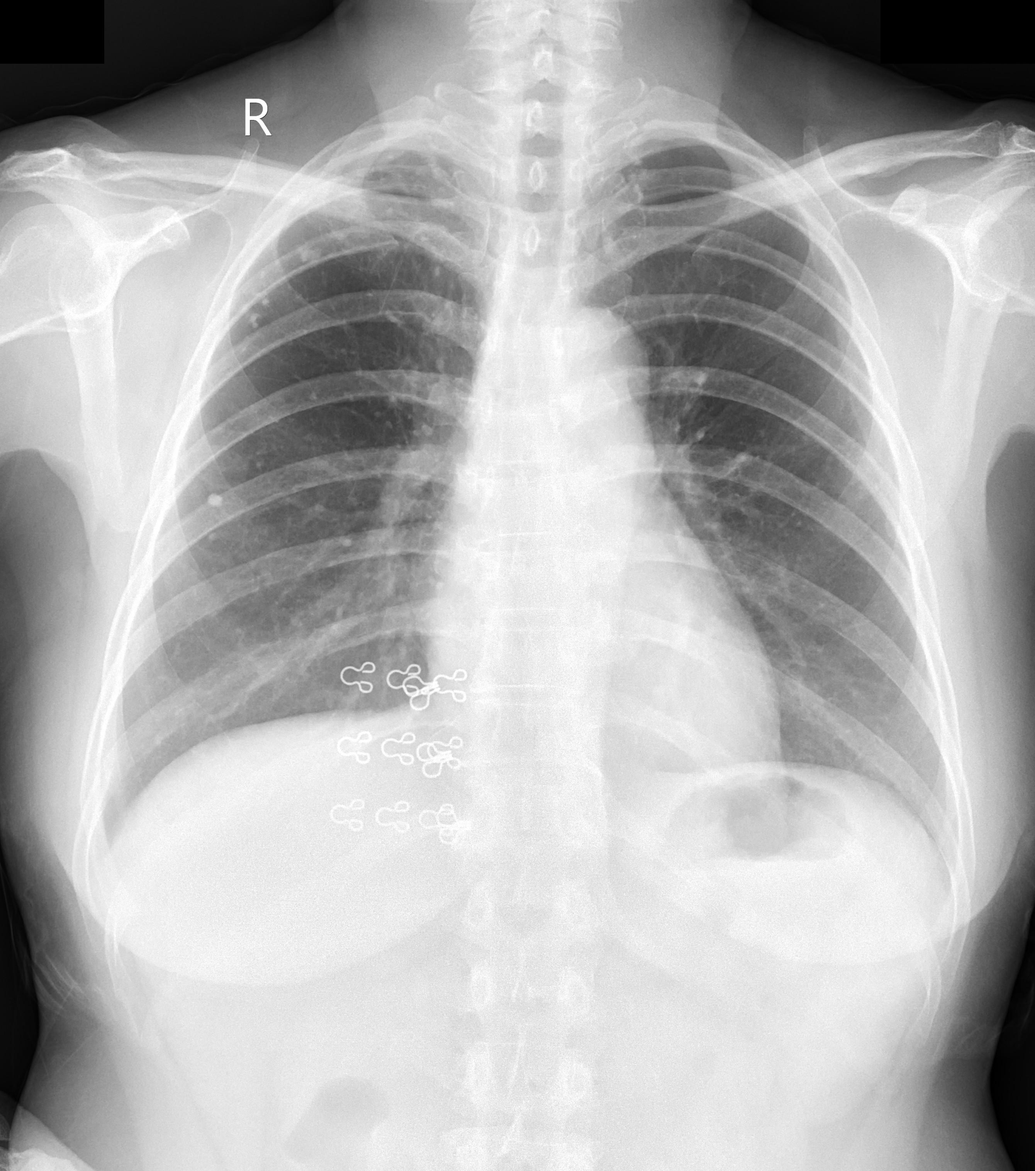Pleural thickening: (86, 786, 121, 870), (627, 156, 648, 166)
